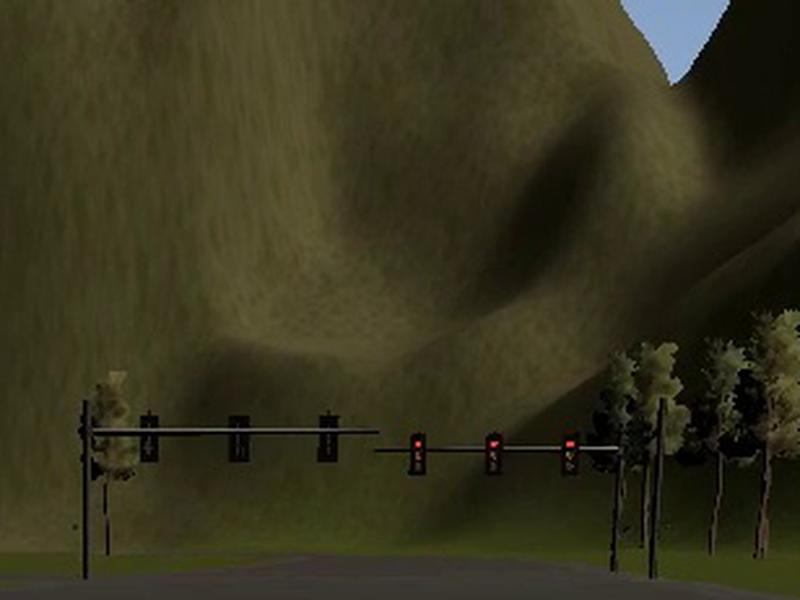Red: (411, 433, 427, 476), (562, 435, 578, 477), (486, 435, 501, 474)
